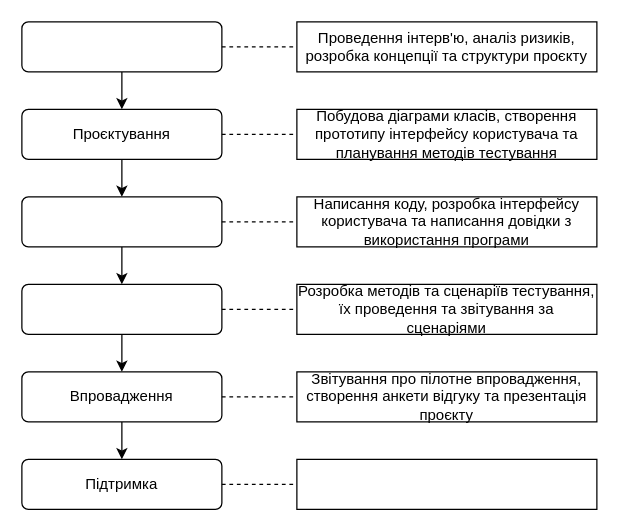
Image size: 619x531. Some labels were removed from this diagram. The shapes that lost their labels are listed below. From the top down, each one's box as (x1, y1, x2, y2) in pixels, then its label:
(21, 21, 222, 72): Аналіз вимог
(21, 196, 222, 247): Розробка
(21, 283, 222, 334): Тестування
(296, 458, 597, 509): Звітування про завершення проекту та постпроєктний аналіз
